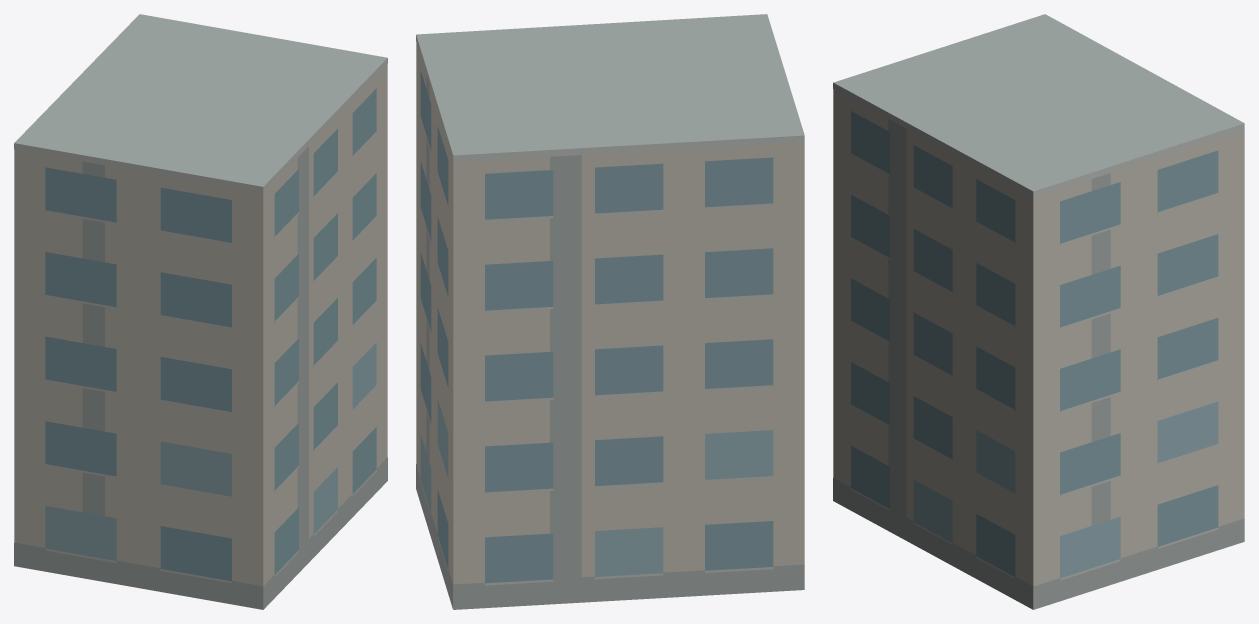
File: residential-f9964037-ffeb-429a-b11c-069d04bdef59.glb
The picture shows the model from 3 angles, left to right: view 1: azimuth 30°, elevation 25°; view 2: azimuth 150°, elevation 25°; view 3: azimuth 270°, elevation 25°; orthographic projection. The views are drawn at different scales.
Visible parts, largest first — view 1: residential-f9964037-ffeb-429a-b11c-069d04bdef59.tmp; view 2: residential-f9964037-ffeb-429a-b11c-069d04bdef59.tmp; view 3: residential-f9964037-ffeb-429a-b11c-069d04bdef59.tmp.
Part boxes in pixels (x1,y1,x2,y2): residential-f9964037-ffeb-429a-b11c-069d04bdef59.tmp: (14,14,387,609); residential-f9964037-ffeb-429a-b11c-069d04bdef59.tmp: (416,14,804,609); residential-f9964037-ffeb-429a-b11c-069d04bdef59.tmp: (833,14,1244,609).
Size of the model in its own units: 14.75 by 16.2 by 14.45.
